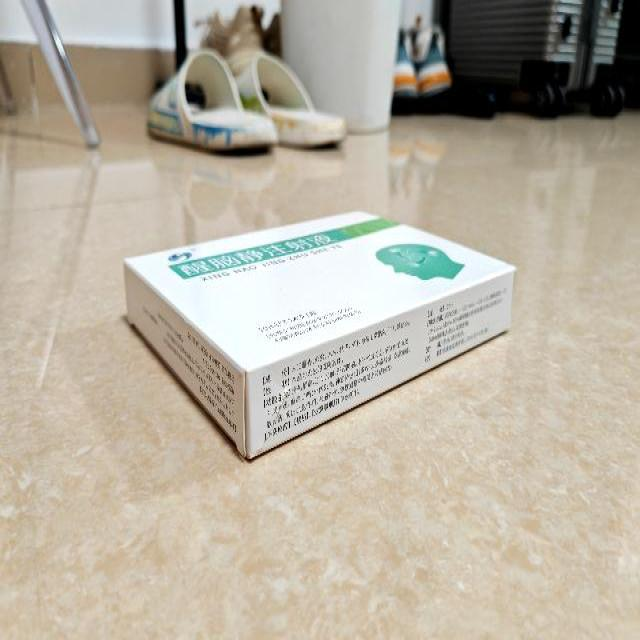box: (125, 208, 517, 464)
